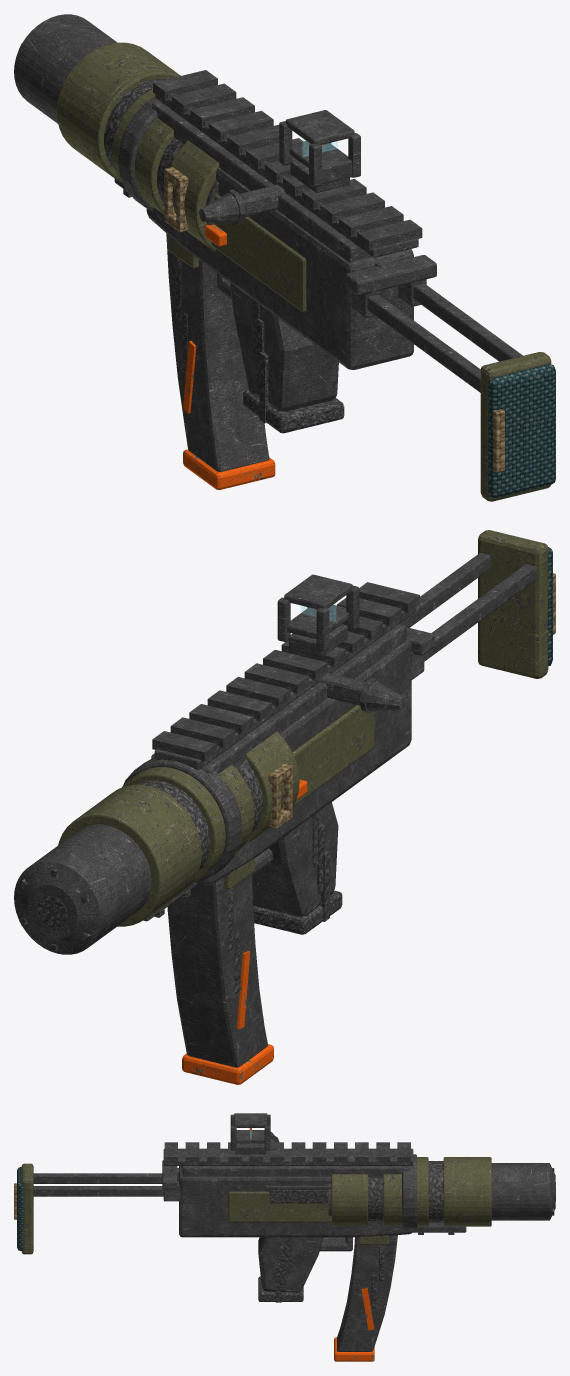
The model's file is wasp.glb.
The picture shows the model from 3 angles, top to bottom: view 1: azimuth 30°, elevation 25°; view 2: azimuth 150°, elevation 25°; view 3: azimuth 270°, elevation 25°; orthographic projection. The views are drawn at different scales.
Parts seen in each view (by area): view 1: body | gunmetal, body | olive drab, mag | gunmetal, body | petrol fabric, body | rubber, mag | orange paint, bolt | gunmetal, body | tan webbing, mag | rubber; view 2: body | gunmetal, body | olive drab, mag | gunmetal, body | rubber, mag | orange paint, bolt | gunmetal, body | tan webbing, mag | rubber; view 3: body | gunmetal, body | olive drab, mag | gunmetal, body | rubber, mag | orange paint, body | petrol fabric, trigger | gunmetal, mag | rubber.
Part boxes in pixels (<box>): body | gunmetal: <box>14,14,522,411</box>; body | olive drab: <box>56,42,551,501</box>; mag | gunmetal: <box>166,233,269,471</box>; body | petrol fabric: <box>488,364,555,497</box>; body | rubber: <box>19,43,344,433</box>; mag | orange paint: <box>183,341,275,489</box>; bolt | gunmetal: <box>199,184,343,225</box>; body | tan webbing: <box>164,167,504,472</box>; mag | rubber: <box>176,259,187,372</box>; body | gunmetal: <box>14,553,536,954</box>; body | olive drab: <box>58,530,548,926</box>; mag | gunmetal: <box>167,873,267,1067</box>; body | rubber: <box>19,764,342,951</box>; mag | orange paint: <box>182,951,273,1084</box>; bolt | gunmetal: <box>320,631,405,713</box>; body | tan webbing: <box>268,573,555,828</box>; mag | rubber: <box>228,890,239,994</box>; body | gunmetal: <box>33,1113,555,1292</box>; body | olive drab: <box>21,1157,491,1254</box>; mag | gunmetal: <box>337,1235,397,1351</box>; body | rubber: <box>258,1161,555,1302</box>; mag | orange paint: <box>334,1288,374,1361</box>; body | petrol fabric: <box>17,1167,23,1250</box>; trigger | gunmetal: <box>320,1237,352,1251</box>; mag | rubber: <box>371,1247,384,1308</box>.
Size of the model in its own units: 0.138 by 0.344 by 0.7165.
Materials: 8 (7 with a texture image).
